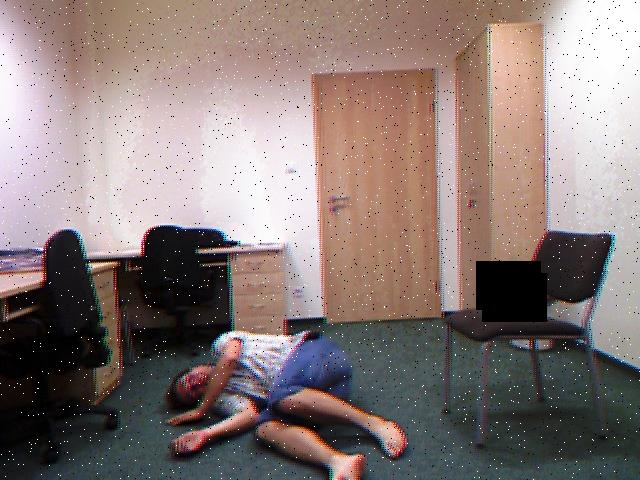fall: (167, 326, 410, 480)
